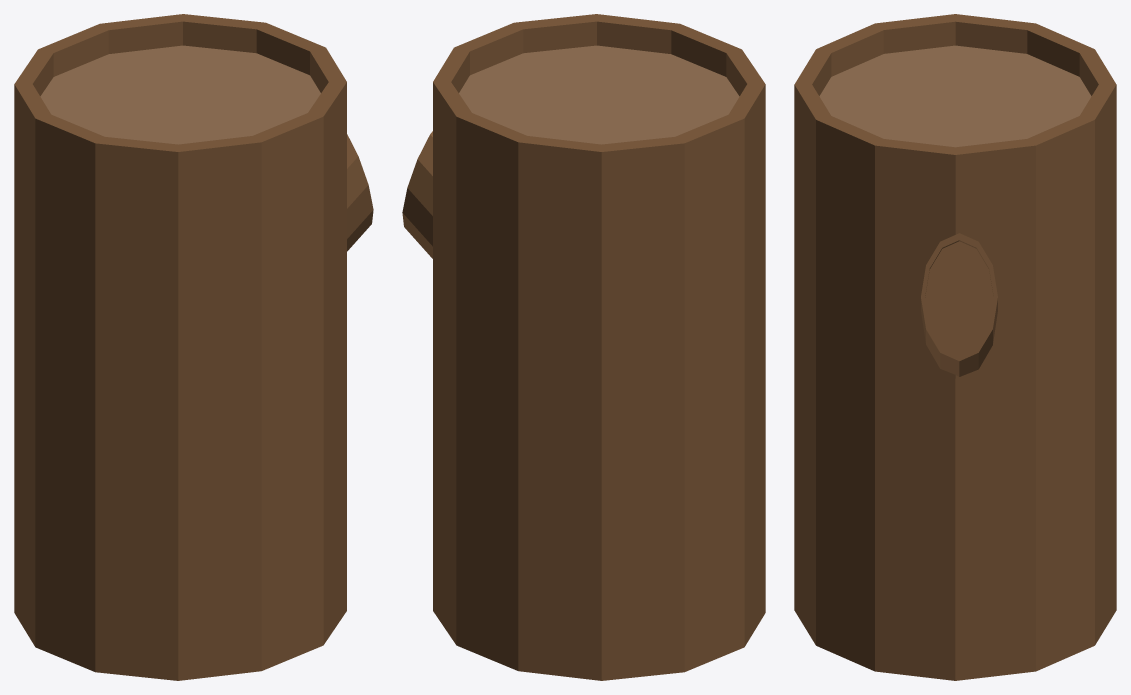
File: wood.00.fbx
3 views of the same model, side by side, from view 1: azimuth 30°, elevation 25°; view 2: azimuth 150°, elevation 25°; view 3: azimuth 270°, elevation 25° (orthographic).
Visible parts, largest first — view 1: wood.00; view 2: wood.00; view 3: wood.00.
Part boxes in pixels (x1=…): wood.00: x1=14, y1=14, x2=373, y2=680; wood.00: x1=402, y1=14, x2=765, y2=680; wood.00: x1=794, y1=14, x2=1116, y2=680.
Size of the model in its own units: 131 by 200 by 111.
